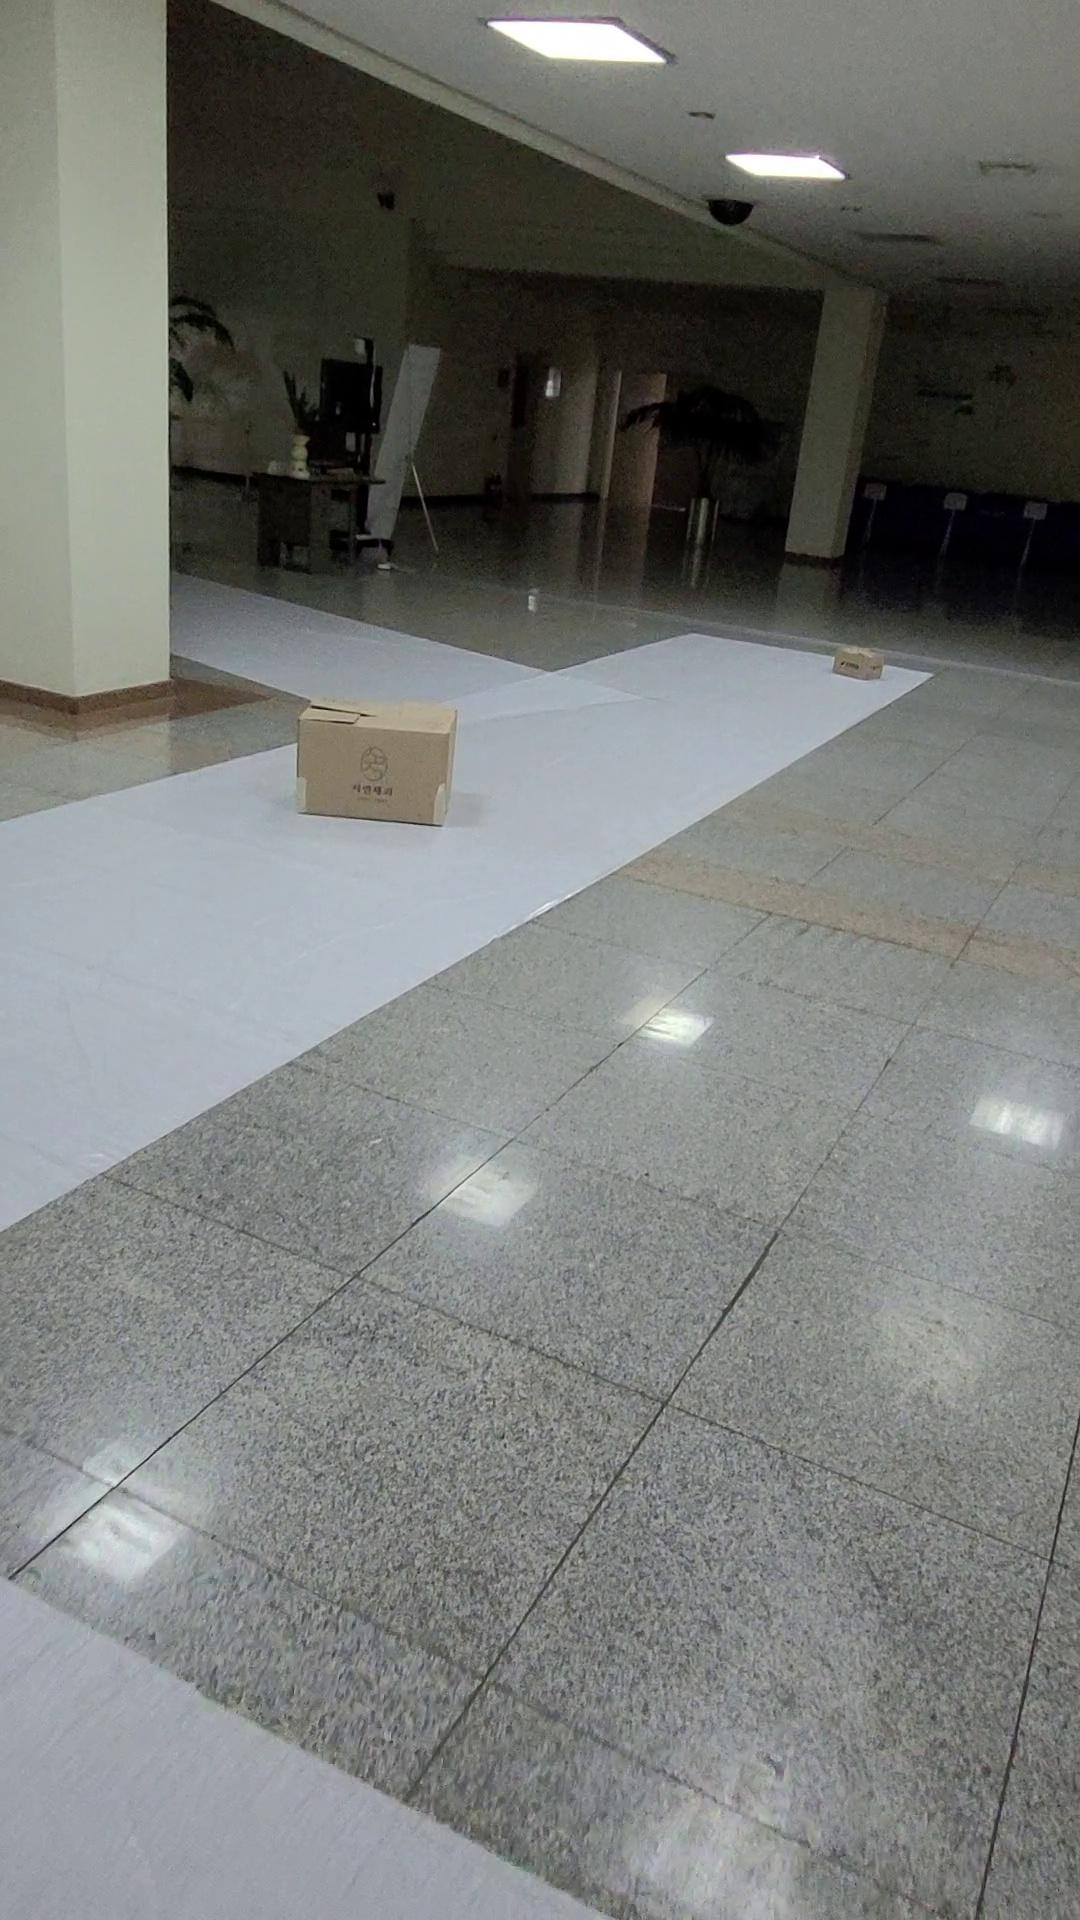Box: (261, 675, 480, 860), (814, 628, 907, 698)
